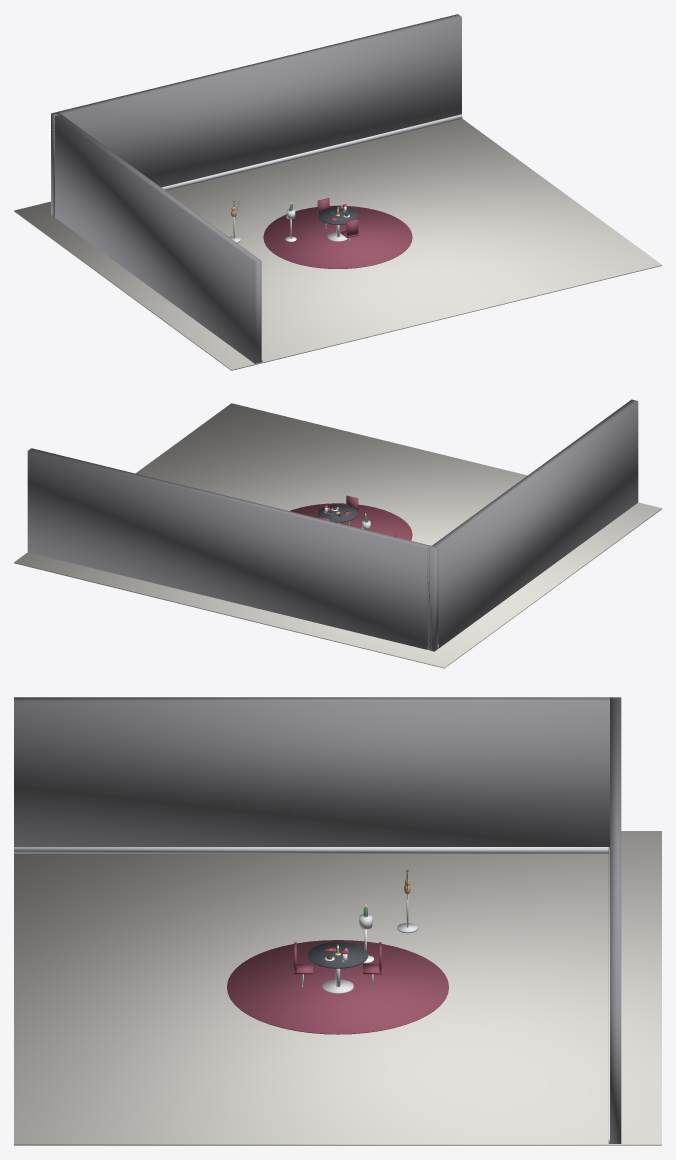
The model's file is dating.glb.
3 renders of one model, top to bottom at view 1: azimuth 30°, elevation 25°; view 2: azimuth 150°, elevation 25°; view 3: azimuth 270°, elevation 25°, orthographic. The views are drawn at different scales.
Parts seen in each view (by area): view 1: Dating_Diorama, Bistro_Table; view 2: Dating_Diorama, Bistro_Table; view 3: Dating_Diorama, Bistro_Table.
Boxes of the visible parts, left/top/right/bottom form: Dating_Diorama: left=14, top=14, right=661, bottom=370; Bistro_Table: left=317, top=198, right=358, bottom=245; Dating_Diorama: left=14, top=399, right=661, bottom=668; Bistro_Table: left=317, top=495, right=358, bottom=525; Dating_Diorama: left=14, top=697, right=661, bottom=1145; Bistro_Table: left=293, top=942, right=382, bottom=993.
Size of the model in its own units: 16 by 3.64 by 14.
